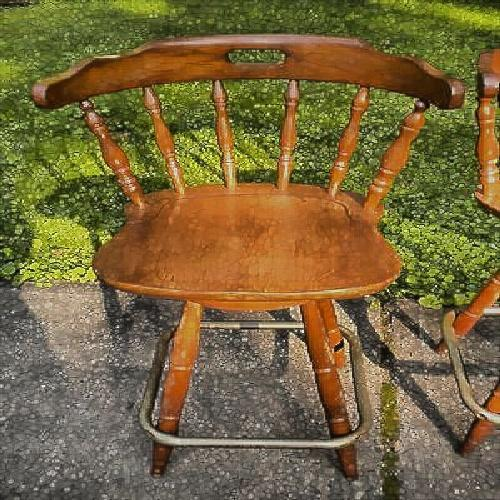chair: (47, 50, 449, 473)
